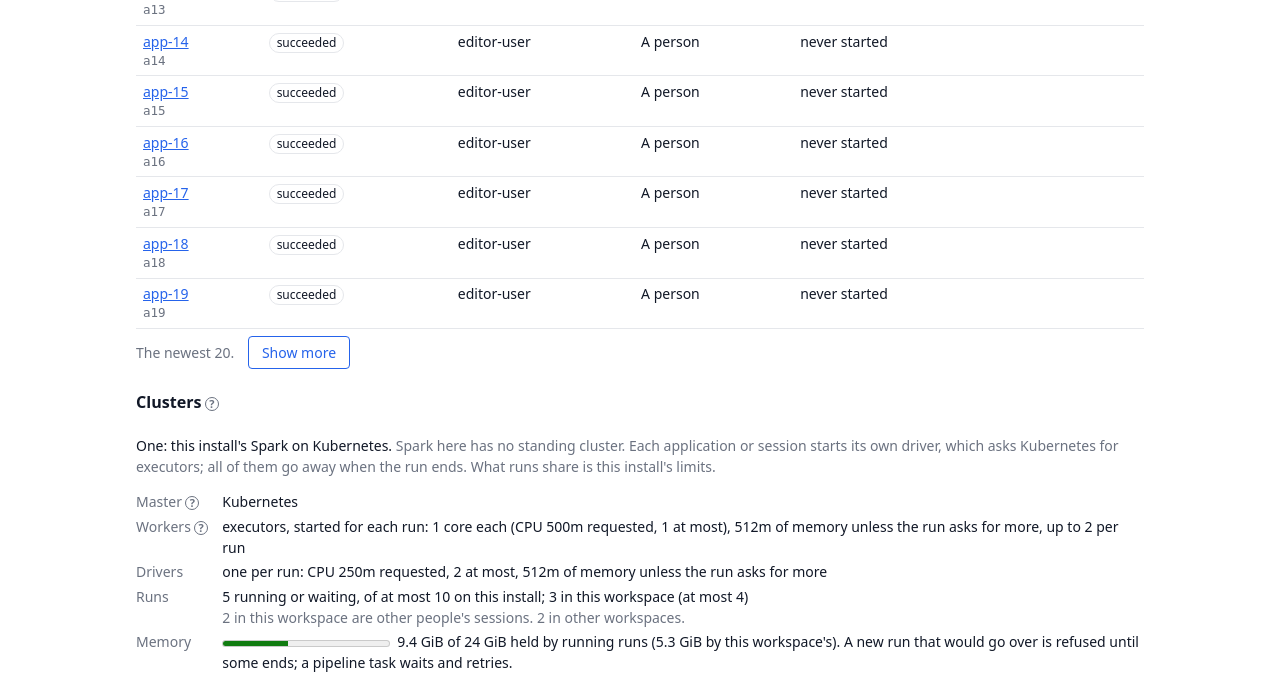
Test case: the runs page, sessions first and applications a page at a time › puts Sessions above Applications, shows the newest 20 and the rest on Show more
(page scrolled)
expect the link "app-19" is shown: met, box x1=143 y1=284 x2=189 y2=303
expect the link "app-20" is not shown: met
Click the button "Show more".
click(299, 352)  # box x1=248 y1=336 x2=350 y2=369
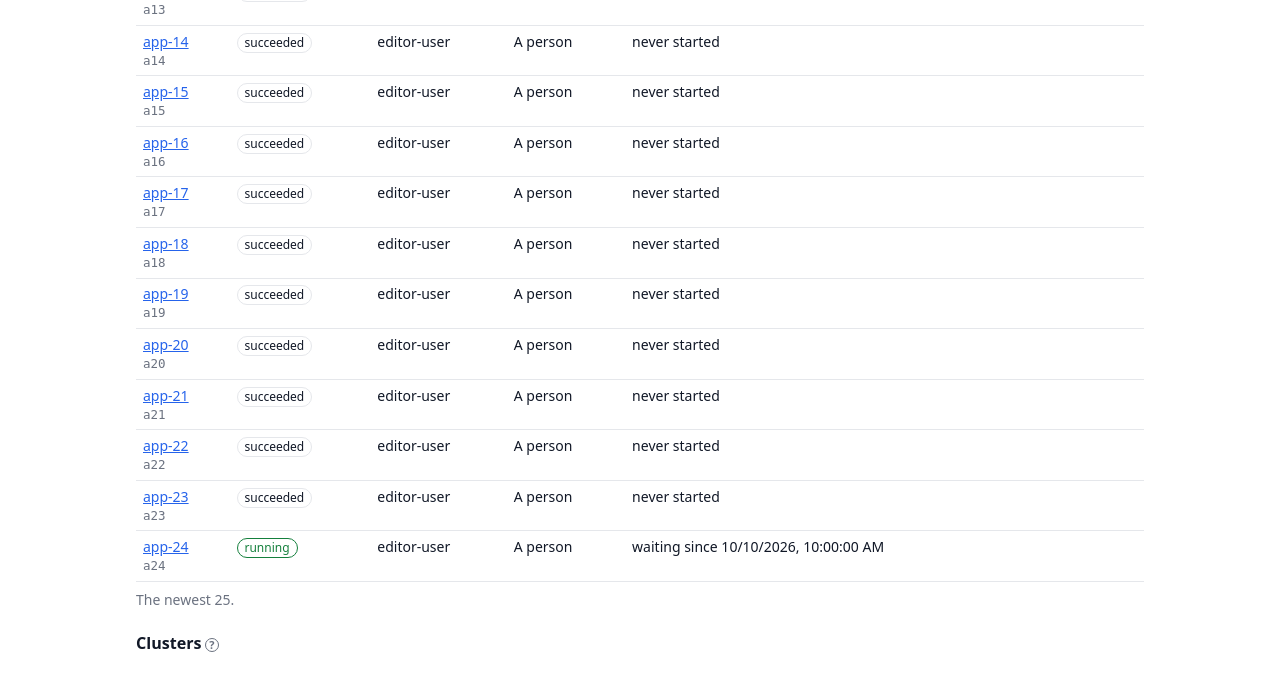
expect the text "The newest 25." is shown: met, box x1=136 y1=589 x2=234 y2=610
expect the link "app-24" is shown: met, box x1=143 y1=537 x2=189 y2=556
expect the button "Show more" is gone: met
